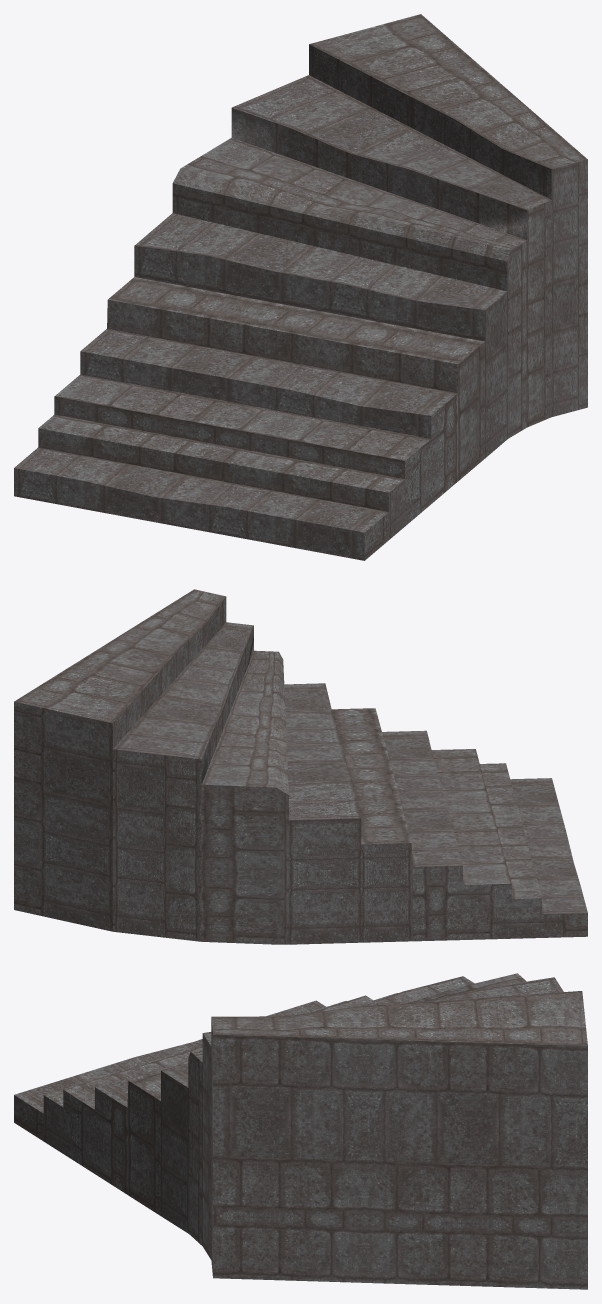
File: Simple Stone Stairs 02.fbx
3 views of the same model, one above another, from view 1: azimuth 30°, elevation 25°; view 2: azimuth 150°, elevation 25°; view 3: azimuth 270°, elevation 25° (orthographic). The views are drawn at different scales.
Visible parts, largest first — view 1: Cube; view 2: Cube; view 3: Cube.
Boxes of the visible parts, x1=… form: Cube: x1=14, y1=14, x2=587, y2=560; Cube: x1=14, y1=589, x2=587, y2=944; Cube: x1=14, y1=973, x2=587, y2=1289.
Size of the model in its own units: 629 by 274 by 584.
